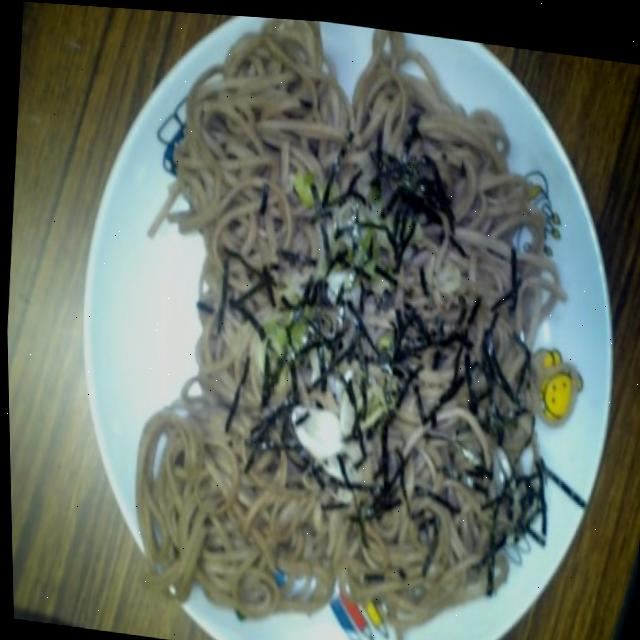面条主食: (102, 5, 589, 640)
